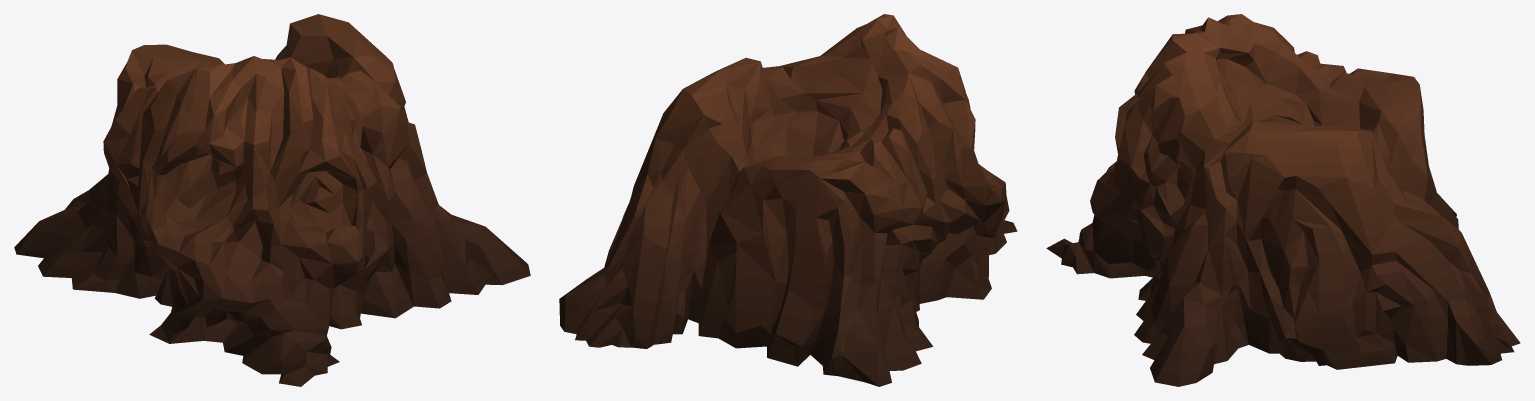
File: SkullTree.glb
The picture shows the model from 3 angles, left to right: view 1: azimuth 30°, elevation 25°; view 2: azimuth 150°, elevation 25°; view 3: azimuth 270°, elevation 25°; orthographic projection. The views are drawn at different scales.
Parts seen in each view (by area): view 1: SkullTree.col; view 2: SkullTree.col; view 3: SkullTree.col.
Part boxes in pixels (<box>): SkullTree.col: <box>14,14,530,386</box>; SkullTree.col: <box>559,14,1017,386</box>; SkullTree.col: <box>1046,14,1520,386</box>.
Size of the model in its own units: 1.38 by 0.9126 by 1.58.
Materials: 1 (1 with a texture image).
